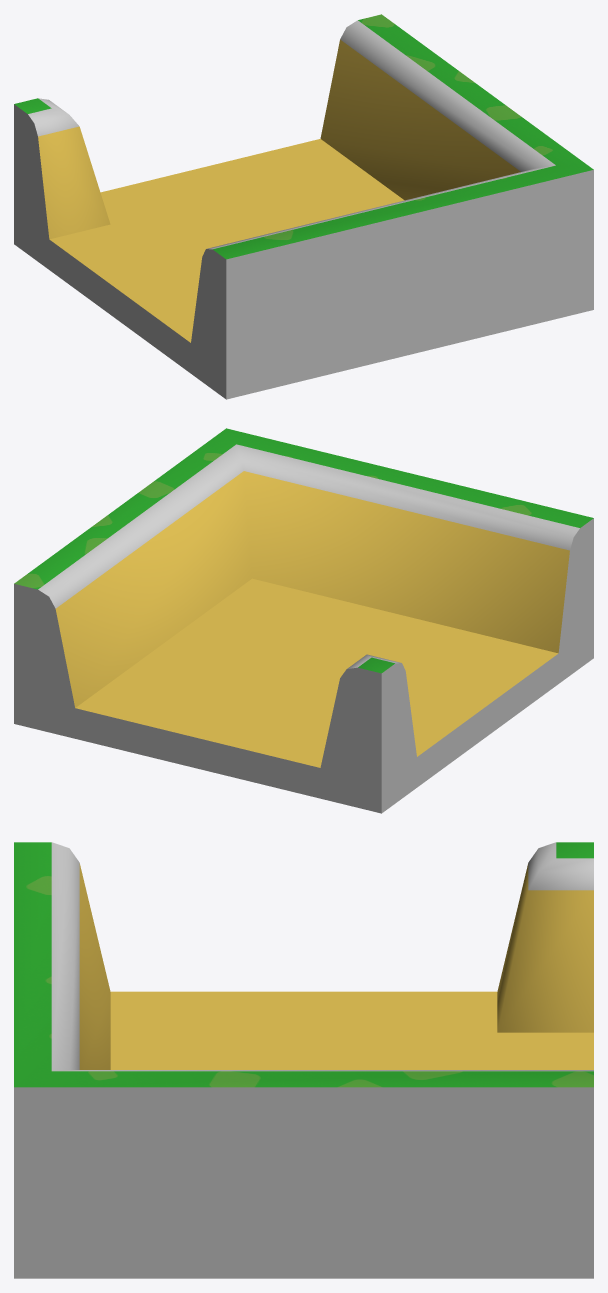
Rendered from RiverTile_2_1.fbx.
The picture shows the model from 3 angles, top to bottom: view 1: azimuth 30°, elevation 25°; view 2: azimuth 150°, elevation 25°; view 3: azimuth 270°, elevation 25°; orthographic projection. The views are drawn at different scales.
Parts seen in each view (by area): view 1: RiverTile_2_1; view 2: RiverTile_2_1; view 3: RiverTile_2_1.
Part boxes in pixels (x1=…): RiverTile_2_1: x1=14, y1=14, x2=593, y2=399; RiverTile_2_1: x1=14, y1=428, x2=593, y2=813; RiverTile_2_1: x1=14, y1=842, x2=593, y2=1278.
Bounding box in the file's own units: 4 × 1.46 × 4.
